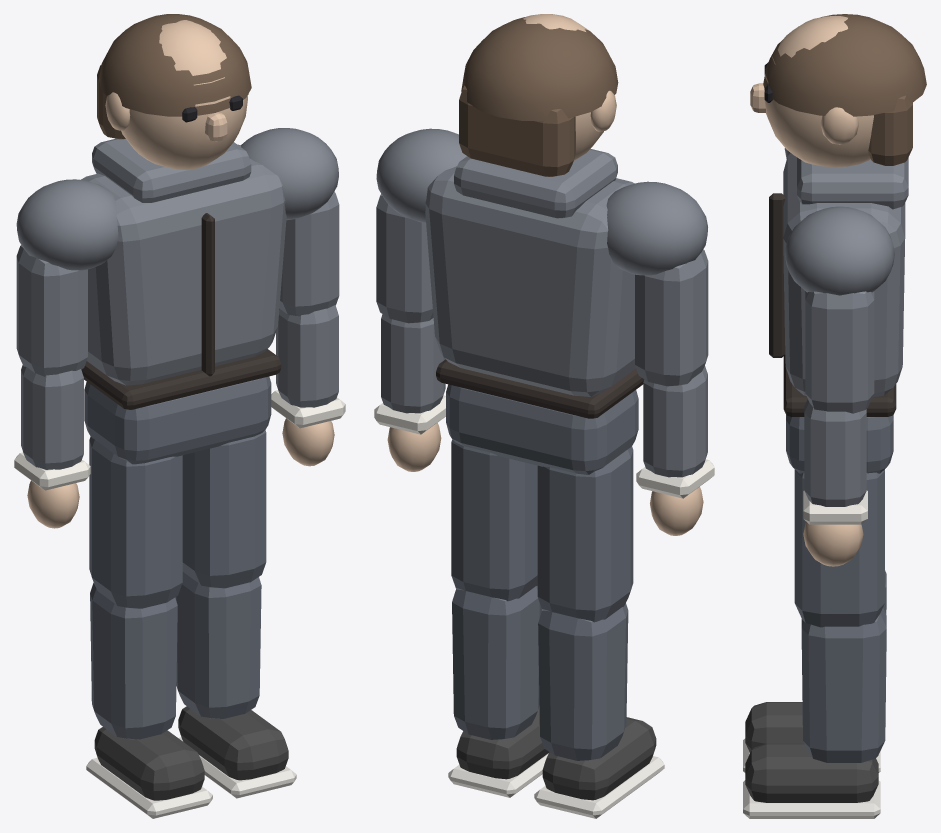
The model's file is ped.glb.
3 views of the same model, side by side, from view 1: azimuth 30°, elevation 25°; view 2: azimuth 150°, elevation 25°; view 3: azimuth 270°, elevation 25° (orthographic). The views are drawn at different scales.
Visible parts, largest first — view 1: Torso.001, LegL_Thigh.001, LegR_Thigh.001, LegL_Shin.001, LegR_Shin.001, Hips.001, HairCap.001, ArmL_Upper.001, Head.001, ShoulderL.001, ArmL_Fore.001, ArmR_Upper.001 (+15 smaller); view 2: Torso.001, LegL_Thigh.001, LegL_Shin.001, LegR_Thigh.001, HairCap.001, LegR_Shin.001, Hips.001, ArmL_Upper.001, ShoulderL.001, Collar.001, HairBack.001, ArmL_Fore.001 (+14 smaller); view 3: LegR_Shin.001, HairCap.001, Torso.001, LegR_Thigh.001, ArmR_Upper.001, ShoulderR.001, LegR_Shoe.001, ArmR_Fore.001, Head.001, Collar.001, Zip, LegR_Sole.001 (+8 smaller).
Boxes of the visible parts, x1=… form: Torso.001: x1=80, y1=144, x2=286, y2=385; LegL_Thigh.001: x1=89, y1=436, x2=182, y2=608; LegR_Thigh.001: x1=182, y1=430, x2=266, y2=588; LegL_Shin.001: x1=90, y1=583, x2=177, y2=739; LegR_Shin.001: x1=175, y1=572, x2=261, y2=718; Hips.001: x1=84, y1=376, x2=271, y2=464; HairCap.001: x1=99, y1=14, x2=251, y2=116; ArmL_Upper.001: x1=16, y1=245, x2=87, y2=376; Head.001: x1=121, y1=20, x2=247, y2=169; ShoulderL.001: x1=16, y1=179, x2=118, y2=270; ArmL_Fore.001: x1=21, y1=365, x2=83, y2=469; ArmR_Upper.001: x1=279, y1=191, x2=339, y2=316; Torso.001: x1=425, y1=166, x2=635, y2=396; LegL_Thigh.001: x1=537, y1=446, x2=633, y2=622; LegL_Shin.001: x1=538, y1=603, x2=628, y2=760; LegR_Thigh.001: x1=451, y1=439, x2=537, y2=601; HairCap.001: x1=461, y1=17, x2=618, y2=120; LegR_Shin.001: x1=452, y1=586, x2=541, y2=739; Hips.001: x1=446, y1=384, x2=638, y2=474; ArmL_Upper.001: x1=635, y1=249, x2=708, y2=386; ShoulderL.001: x1=606, y1=181, x2=707, y2=275; Collar.001: x1=454, y1=148, x2=617, y2=218; HairBack.001: x1=459, y1=85, x2=575, y2=176; ArmL_Fore.001: x1=643, y1=366, x2=707, y2=477; LegR_Shin.001: x1=801, y1=608, x2=886, y2=762; HairCap.001: x1=763, y1=14, x2=926, y2=116; Torso.001: x1=783, y1=152, x2=905, y2=397; LegR_Thigh.001: x1=794, y1=469, x2=884, y2=627; ArmR_Upper.001: x1=805, y1=291, x2=874, y2=413; ShoulderR.001: x1=784, y1=206, x2=894, y2=295; LegR_Shoe.001: x1=745, y1=743, x2=878, y2=802; ArmR_Fore.001: x1=804, y1=399, x2=866, y2=506; Head.001: x1=764, y1=15, x2=873, y2=167; Collar.001: x1=797, y1=157, x2=908, y2=209; Zip: x1=769, y1=193, x2=785, y2=357; LegR_Sole.001: x1=743, y1=780, x2=880, y2=818.
Size of the model in its own units: 0.85 by 1.96 by 0.4273.
